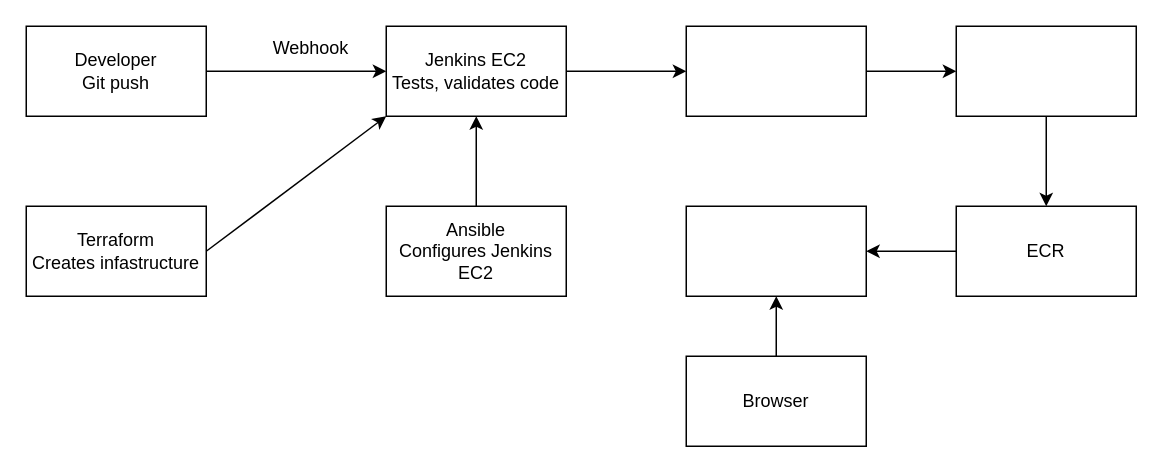
Image size: 1163x473. Some labels were removed from this diagram. Here are the shapes that lost their labels. From the top down, the centre of each, then its label:
the point at 775,70: Docker Builds image
the point at 1045,70: Jenkins Pushes Image to ECR
the point at 775,250: ECS/Fargate Pulls the image from ECR NGINX
